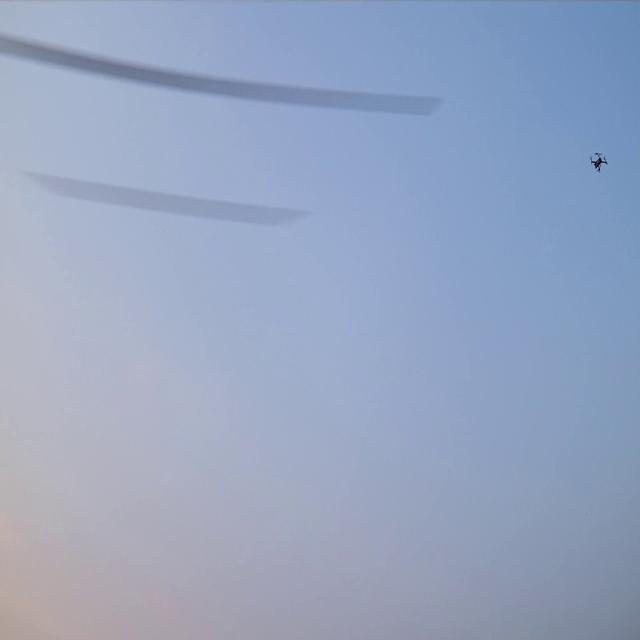UAV: (591, 153, 606, 172)
